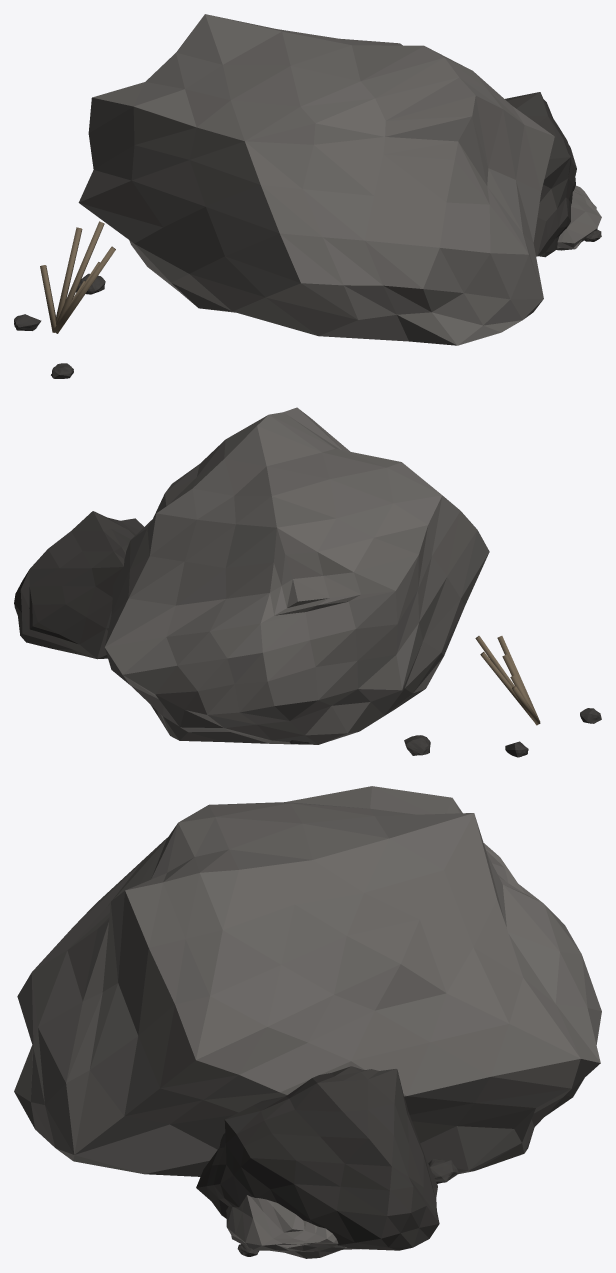
Rendered from cover_rock_2.glb.
The picture shows the model from 3 angles, top to bottom: view 1: azimuth 30°, elevation 25°; view 2: azimuth 150°, elevation 25°; view 3: azimuth 270°, elevation 25°; orthographic projection. The views are drawn at different scales.
Parts seen in each view (by area): view 1: rock_0, rock_2, rock_1, weed_1, weed_4, weed_3; view 2: rock_0, rock_2; view 3: rock_0, rock_2, rock_1.
Boxes of the visible parts, x1,y1,x2,y2 form: rock_0: (78,14,554,345); rock_2: (505,92,576,257); rock_1: (556,185,601,250); weed_1: (53,221,104,332); weed_4: (53,246,115,333); weed_3: (53,227,82,330); rock_0: (104,407,489,744); rock_2: (14,511,143,659); rock_0: (14,786,601,1176); rock_2: (196,1066,439,1250); rock_1: (226,1195,360,1258).
Size of the model in its own units: 2.22 by 0.91 by 1.62.
